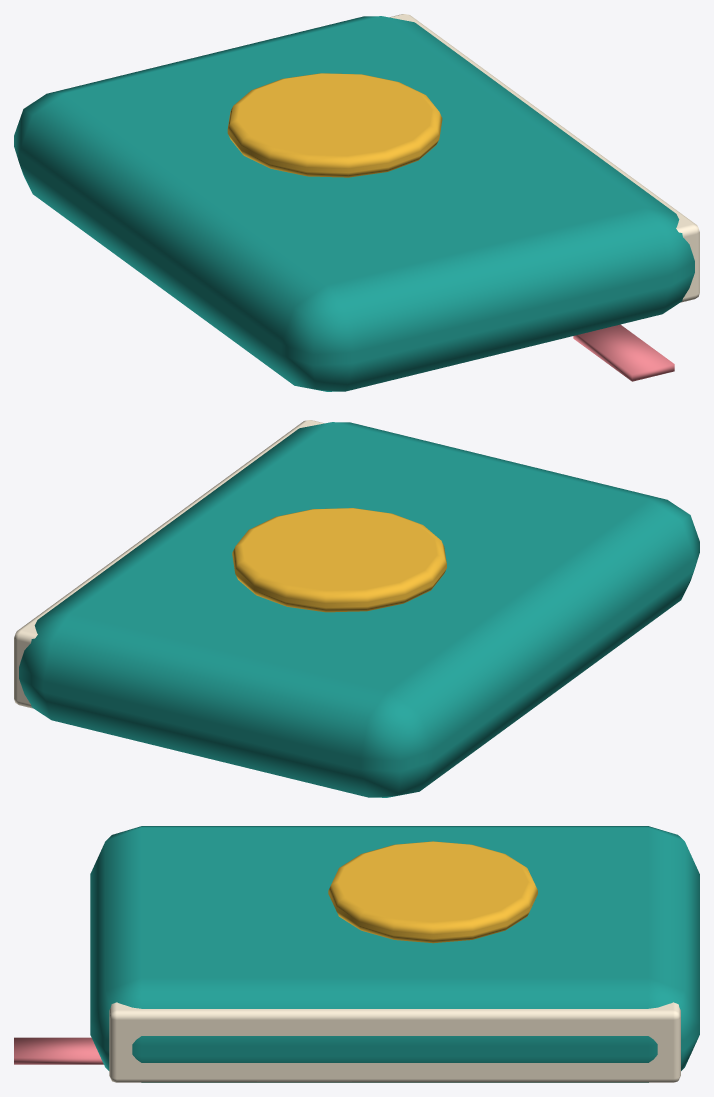
The model's file is club_handbook.glb.
The picture shows the model from 3 angles, top to bottom: view 1: azimuth 30°, elevation 25°; view 2: azimuth 150°, elevation 25°; view 3: azimuth 270°, elevation 25°; orthographic projection. The views are drawn at different scales.
Visible parts, largest first — view 1: Cover.001, Emblem, Ribbon, Pages.001; view 2: Cover.001, Emblem, Pages.001; view 3: Cover.001, Pages.001, Emblem, Ribbon.
Boxes of the visible parts, x1,y1,x2,y2 form: Cover.001: [14, 16, 694, 391]; Emblem: [227, 73, 442, 177]; Ribbon: [573, 324, 674, 381]; Pages.001: [390, 14, 699, 302]; Cover.001: [19, 422, 699, 797]; Emblem: [232, 508, 446, 612]; Pages.001: [14, 420, 323, 708]; Cover.001: [90, 826, 699, 1082]; Pages.001: [109, 1002, 680, 1082]; Emblem: [328, 841, 537, 943]; Ribbon: [14, 1037, 103, 1064].
Size of the model in its own units: 0.24 by 0.072 by 0.36.
